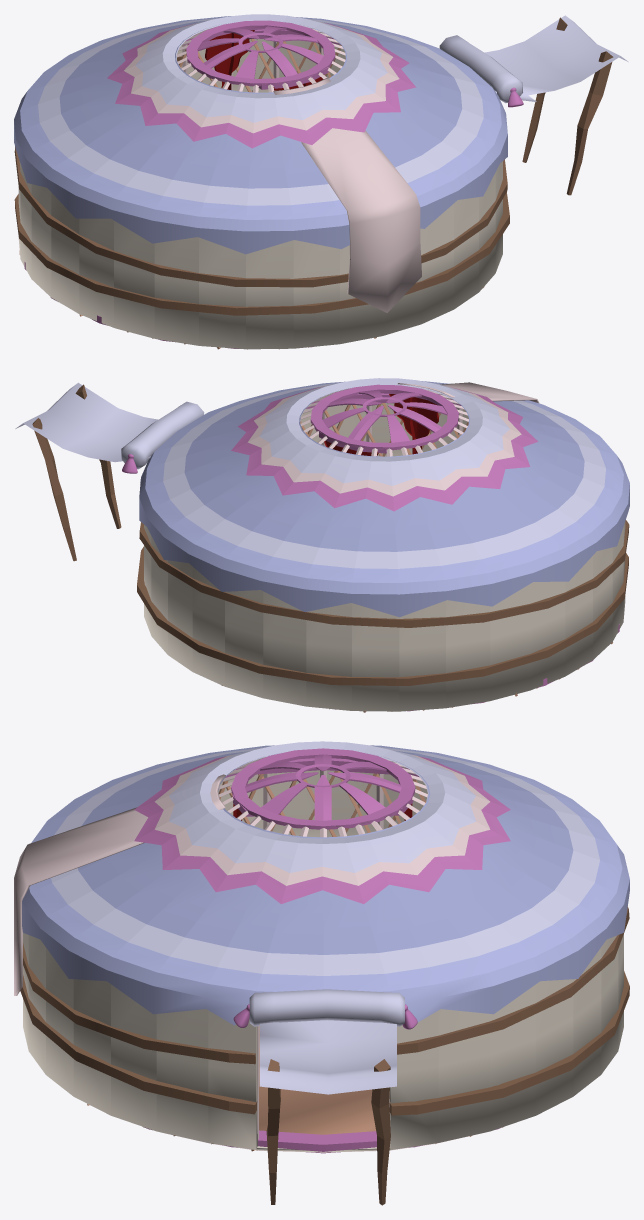
File: yurte_combined_opendoor.fbx
The picture shows the model from 3 angles, top to bottom: view 1: azimuth 30°, elevation 25°; view 2: azimuth 150°, elevation 25°; view 3: azimuth 270°, elevation 25°; orthographic projection. The views are drawn at different scales.
Visible parts, largest first — view 1: polySurface115; view 2: polySurface115; view 3: polySurface115.
Part boxes in pixels (x1,y1,x2,y2): polySurface115: (14,14,628,349); polySurface115: (15,378,629,712); polySurface115: (14,741,629,1205).
Size of the model in its own units: 29.61 by 10.69 by 23.06.
